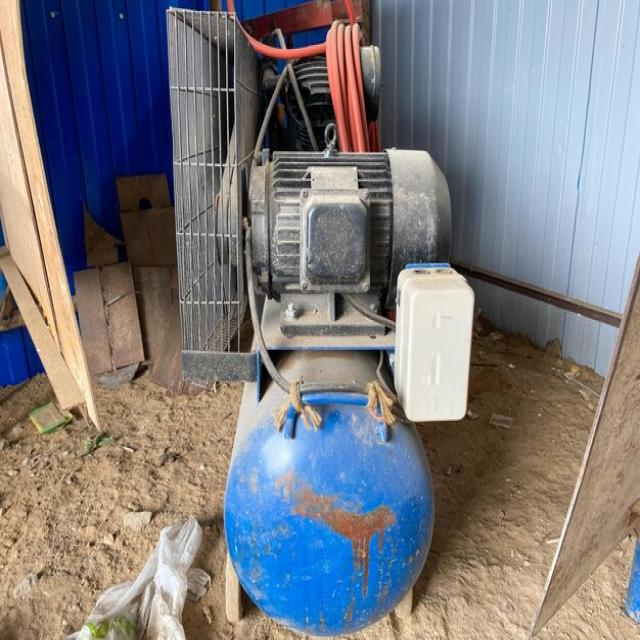compressor: (219, 132, 475, 636)
